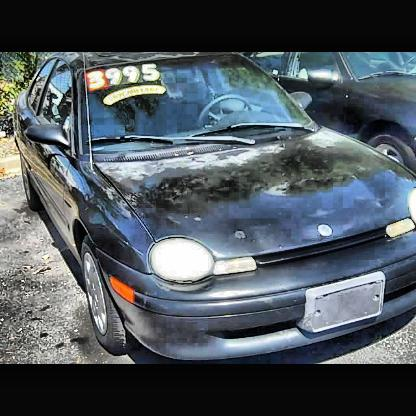Plymouth Neon Coupe 1999: (13, 54, 416, 365)
